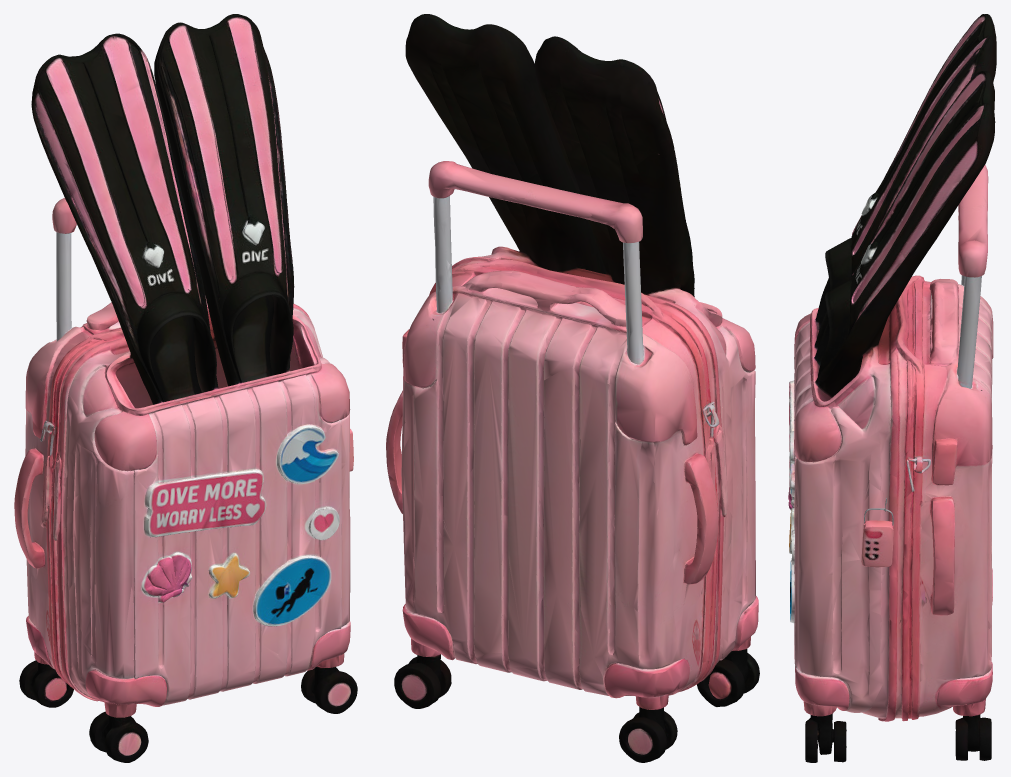
The model's file is travel.glb.
3 renders of one model, left to right at view 1: azimuth 30°, elevation 25°; view 2: azimuth 150°, elevation 25°; view 3: azimuth 270°, elevation 25°, orthographic. The views are drawn at different scales.
Visible parts, largest first — view 1: model; view 2: model; view 3: model.
Boxes of the visible parts, x1,y1,x2,y2 form: model: [14, 14, 357, 762]; model: [386, 14, 759, 762]; model: [788, 14, 996, 762].
Bounding box in the file's own units: 0.9146 × 1.9 × 0.5455.
Materials: 1 (1 with a texture image).
